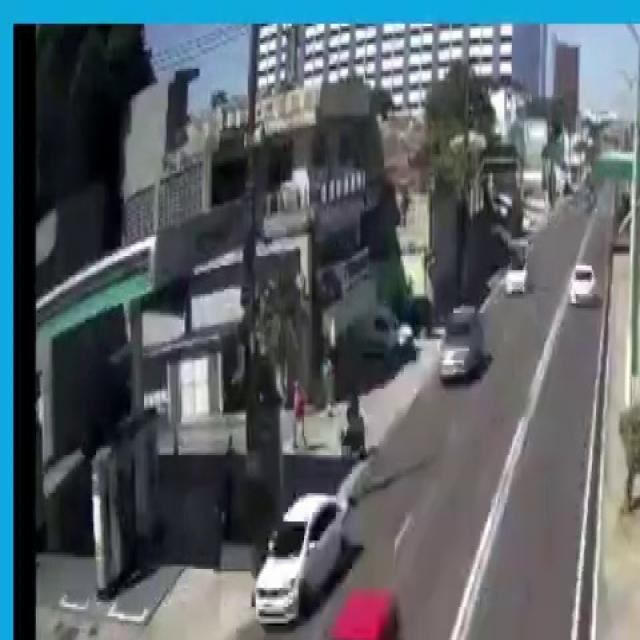car: (250, 484, 346, 631), (303, 583, 405, 640), (436, 299, 487, 394), (566, 264, 598, 313)
